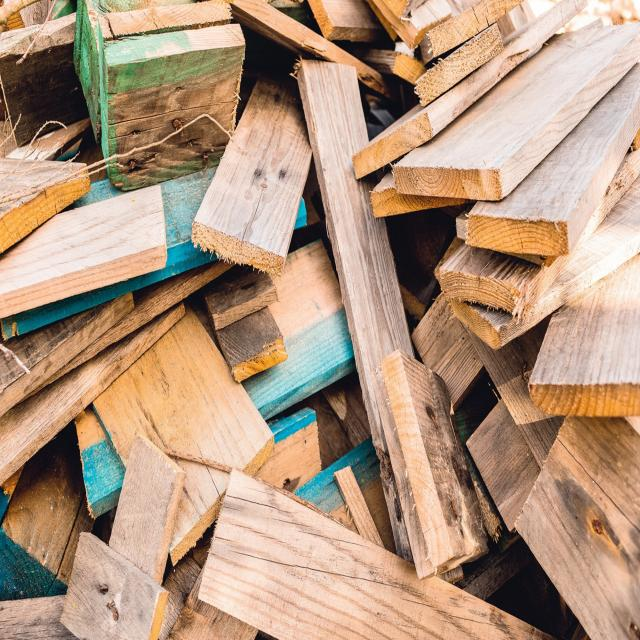green waste: (4, 0, 636, 636)
